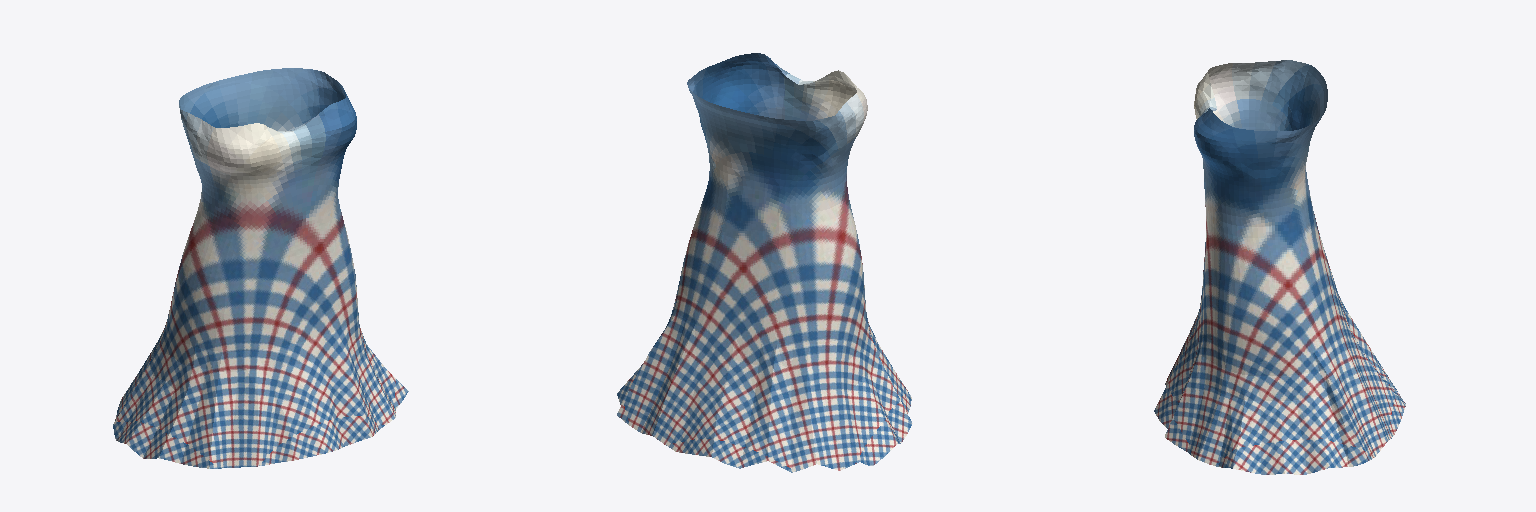
3 views of the same model, side by side, from view 1: azimuth 30°, elevation 25°; view 2: azimuth 150°, elevation 25°; view 3: azimuth 270°, elevation 25° (orthographic).
Visible parts, largest first — view 1: Dress_Form.002; view 2: Dress_Form.002; view 3: Dress_Form.002.
Part boxes in pixels (bbox=[...]): Dress_Form.002: bbox=[113, 68, 408, 468]; Dress_Form.002: bbox=[617, 53, 912, 472]; Dress_Form.002: bbox=[1154, 60, 1405, 474].
Bounding box in the file's own units: 0.451 × 0.5579 × 0.3802.
1 materials, 1 textured.